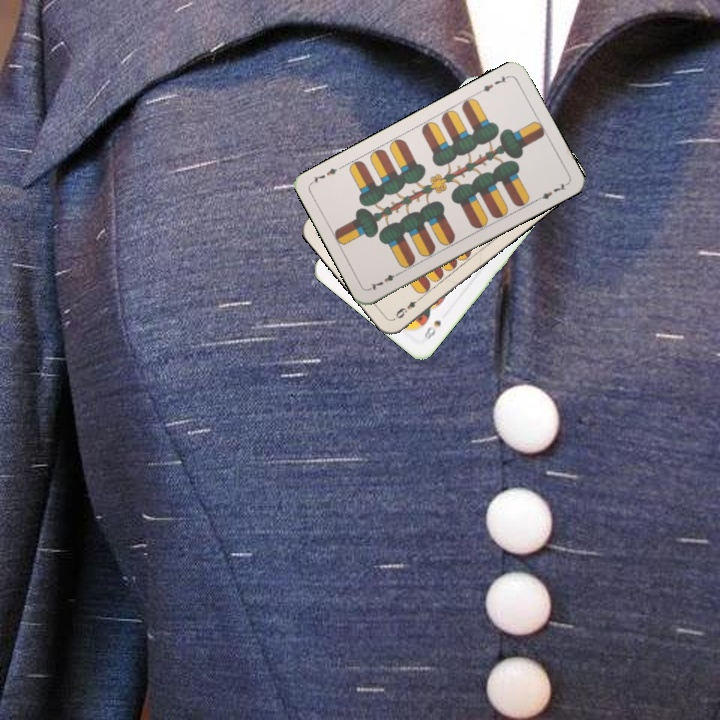E7: (474, 71, 512, 96), (366, 268, 403, 293)
E9: (390, 292, 424, 322)
S8: (420, 316, 444, 343)
